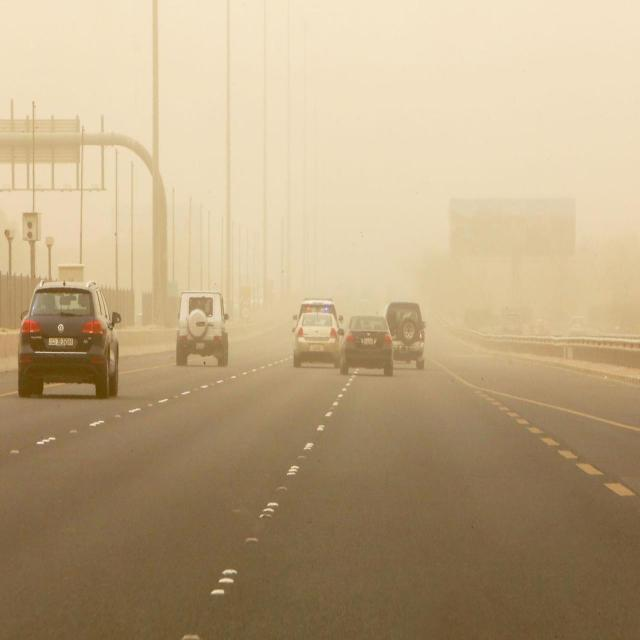car: (18, 280, 122, 400), (176, 290, 229, 368), (339, 314, 393, 376), (292, 311, 342, 368), (386, 302, 426, 368), (293, 297, 343, 326), (501, 312, 521, 335), (568, 317, 588, 336), (529, 319, 551, 336)
